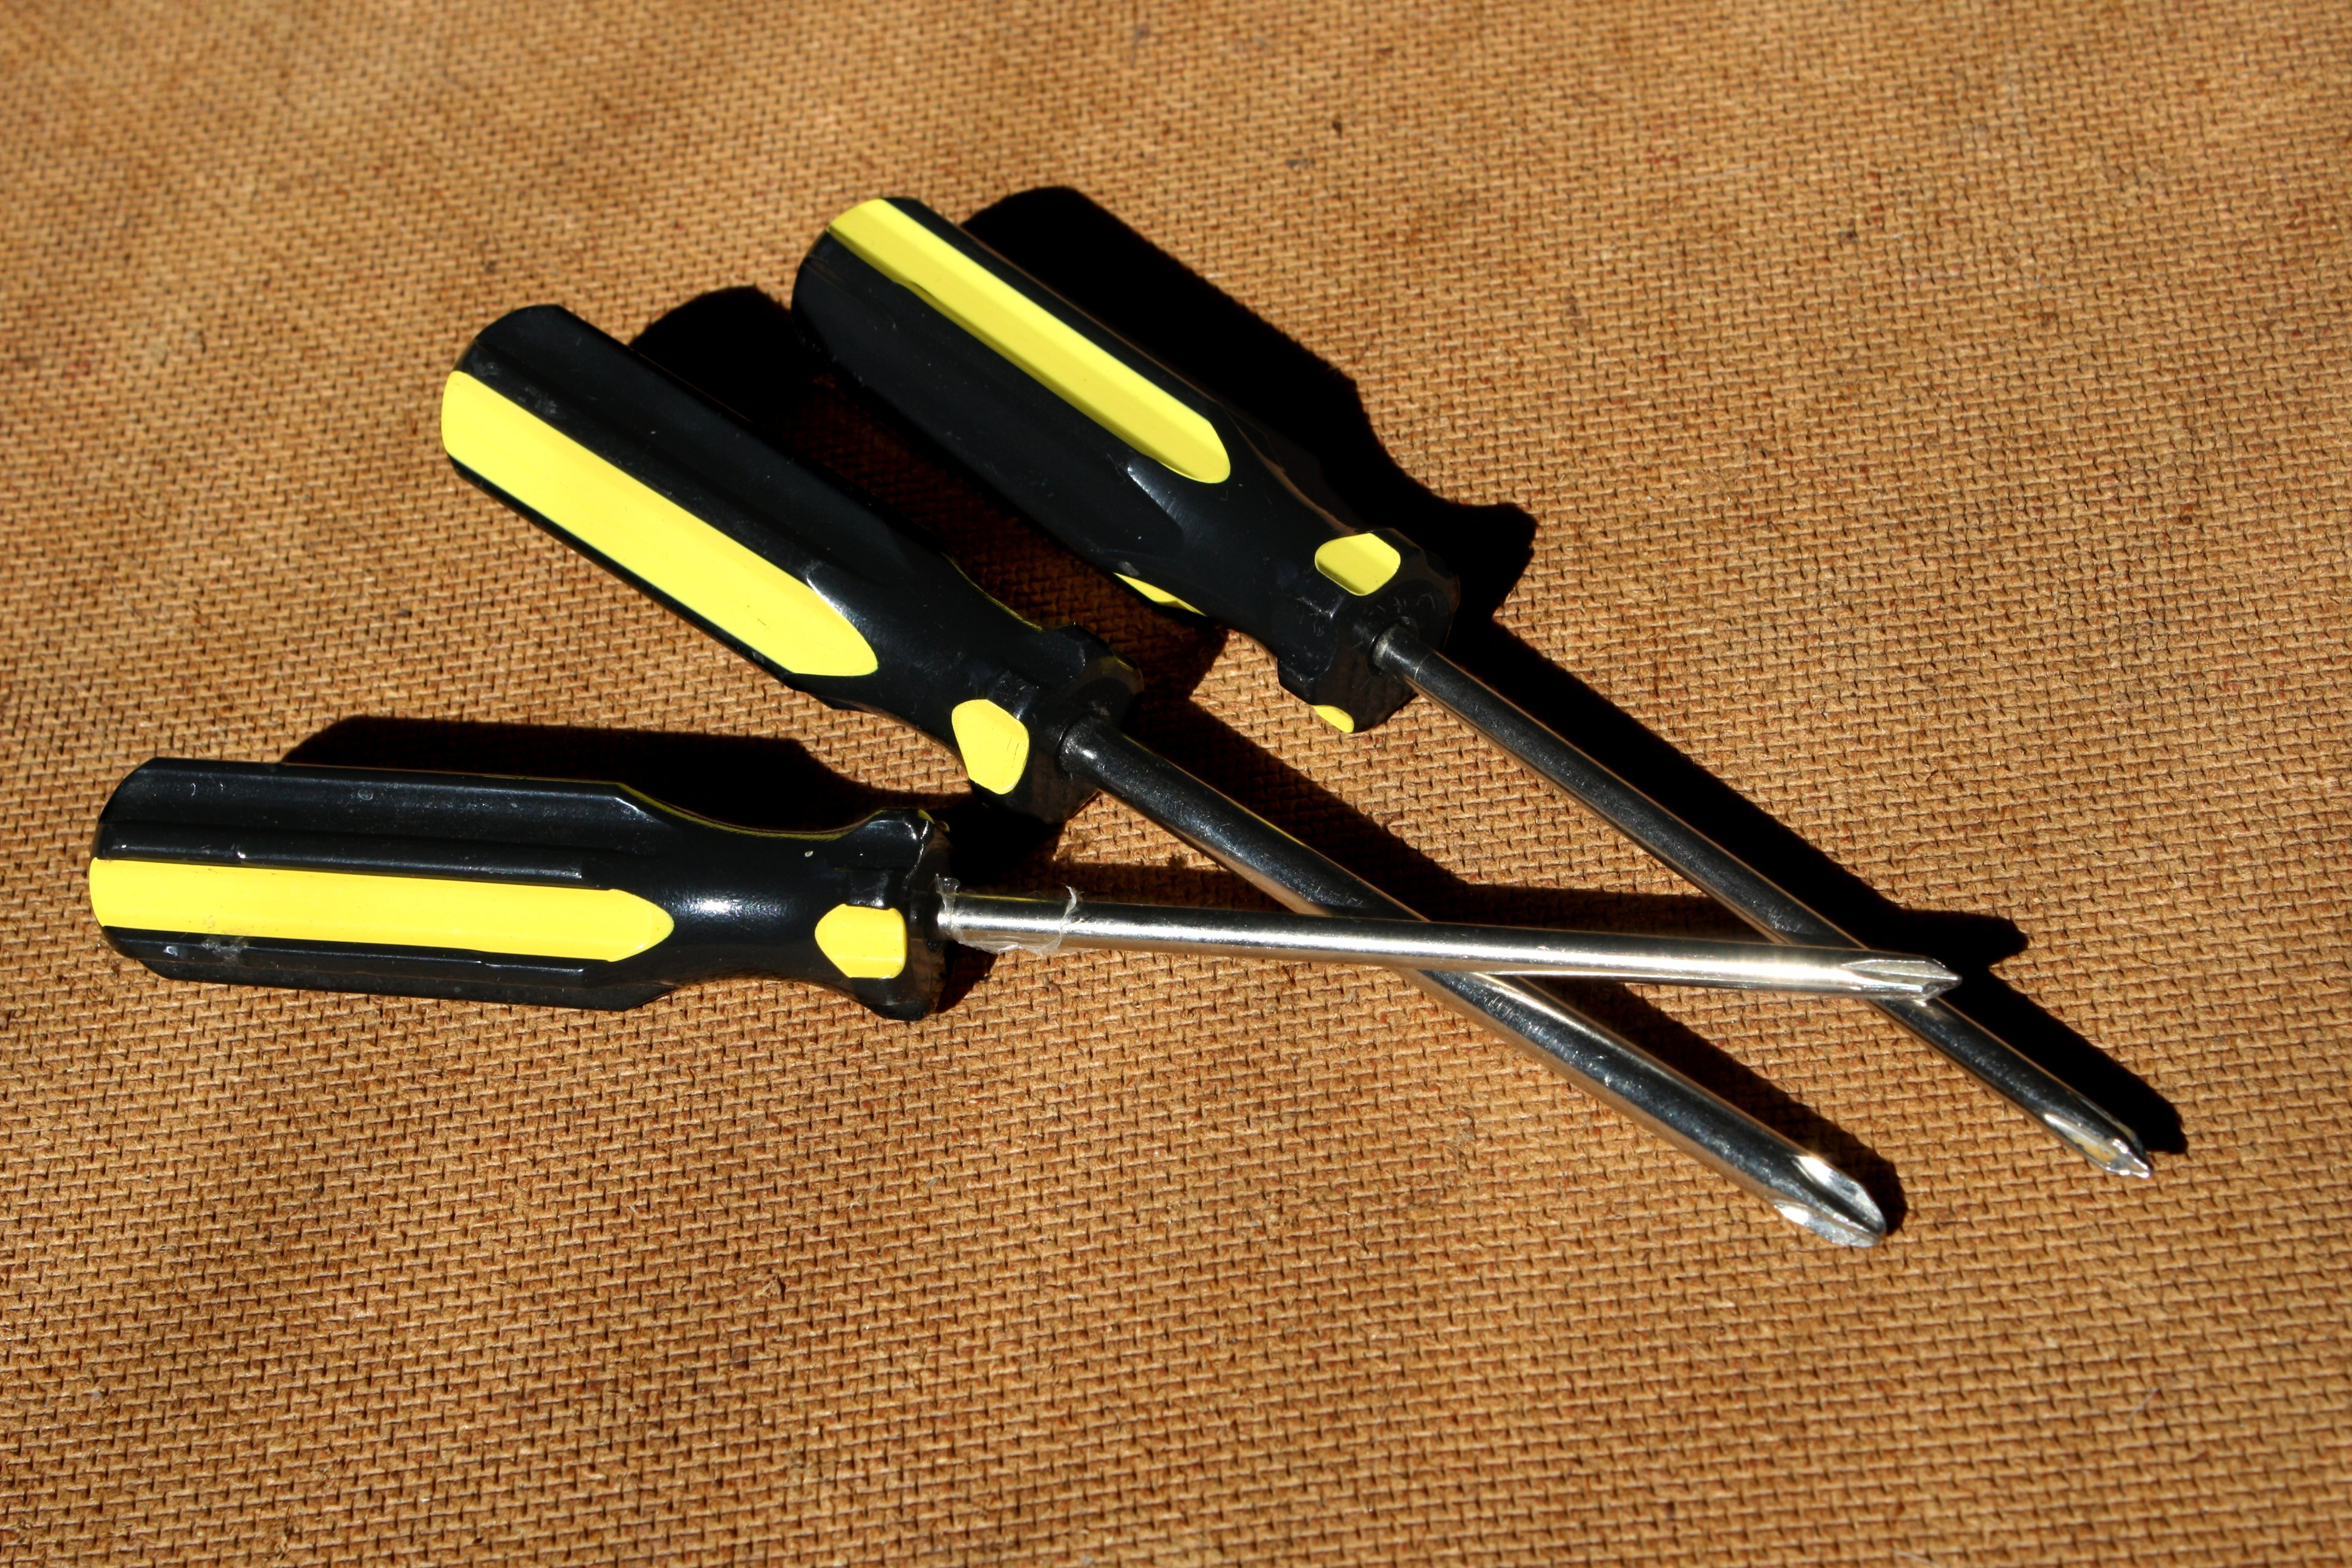screwdriver: (437, 299, 1890, 1248), (787, 196, 2163, 1185), (87, 747, 1965, 1008)
